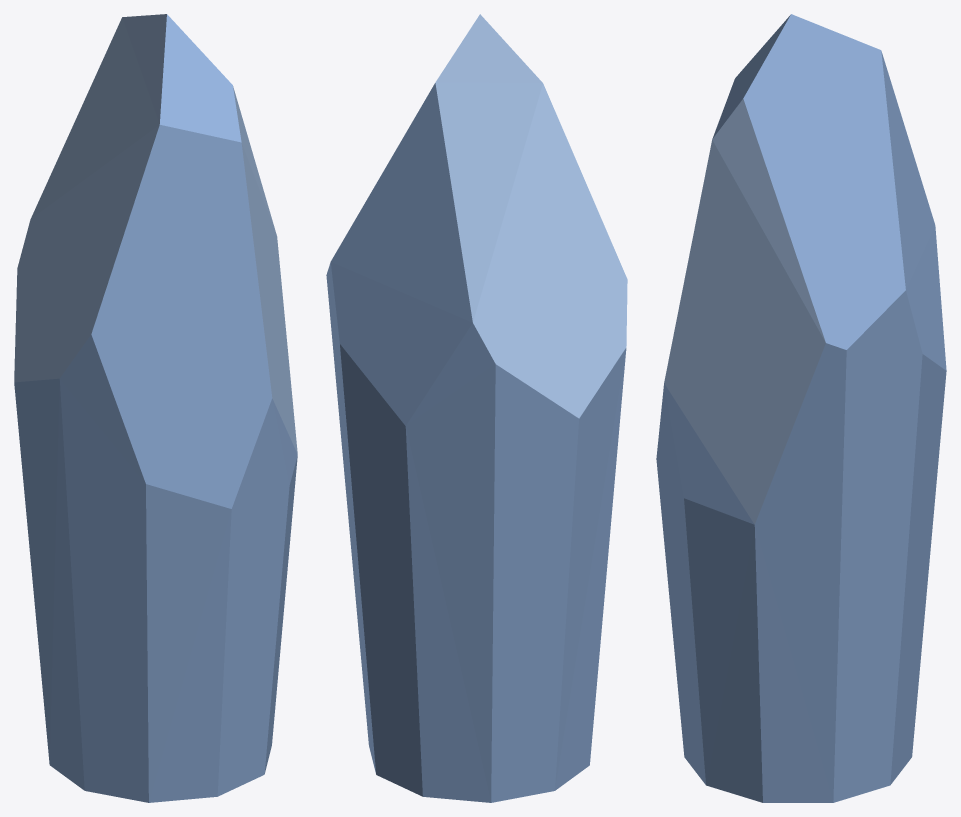
Rendered from crystal_8.fbx.
3 renders of one model, left to right at view 1: azimuth 30°, elevation 25°; view 2: azimuth 150°, elevation 25°; view 3: azimuth 270°, elevation 25°, orthographic.
Visible parts, largest first — view 1: crystal_8; view 2: crystal_8; view 3: crystal_8.
Boxes of the visible parts, x1=… form: crystal_8: x1=14, y1=14, x2=297, y2=802; crystal_8: x1=326, y1=14, x2=627, y2=802; crystal_8: x1=656, y1=14, x2=946, y2=802.
Bounding box in the file's own units: 34.39 × 95.85 × 33.86.
